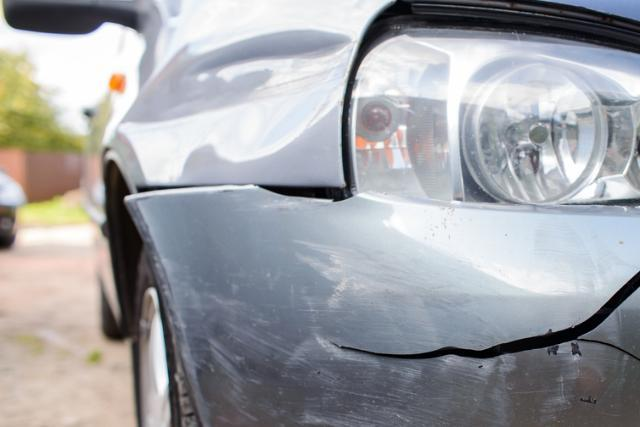Bumper: (123, 180, 640, 427)
